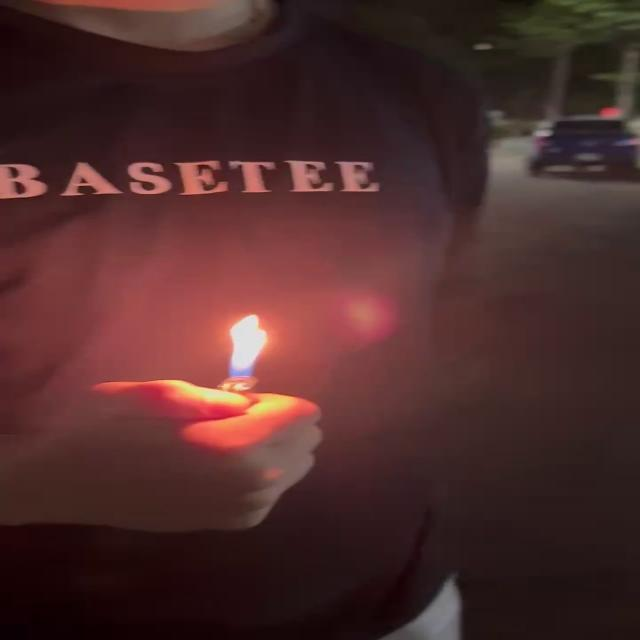Fire: (228, 314, 273, 383)
